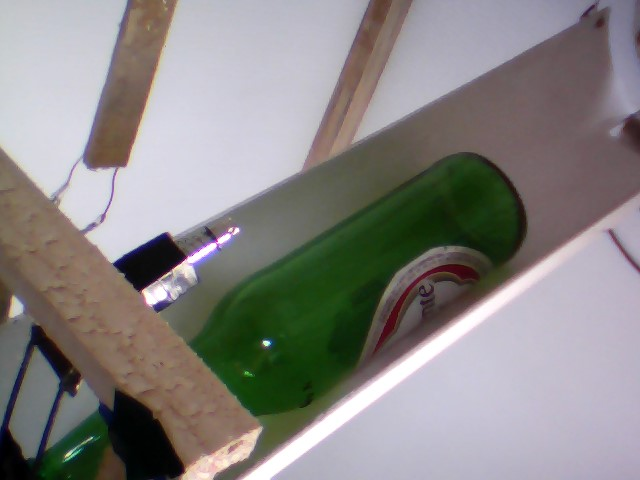vidrio: (178, 146, 543, 425)
